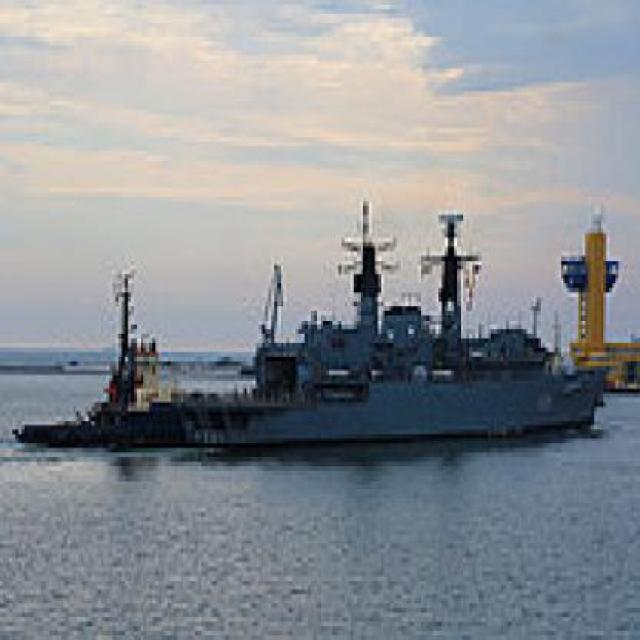warship2: (175, 175, 619, 458)
